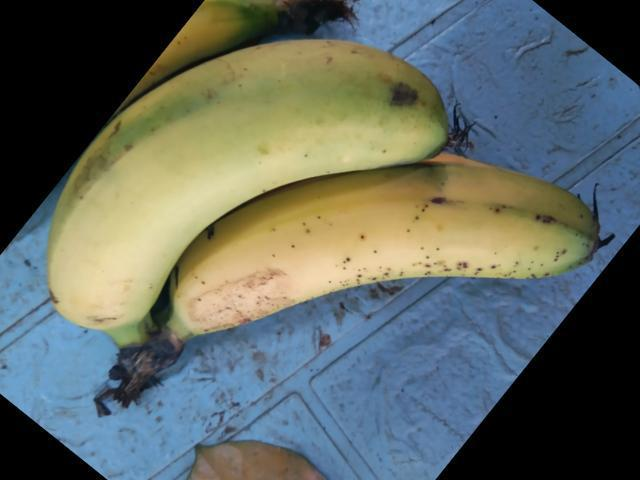freshripe: (24, 52, 439, 317)
ripe: (177, 170, 608, 358)
